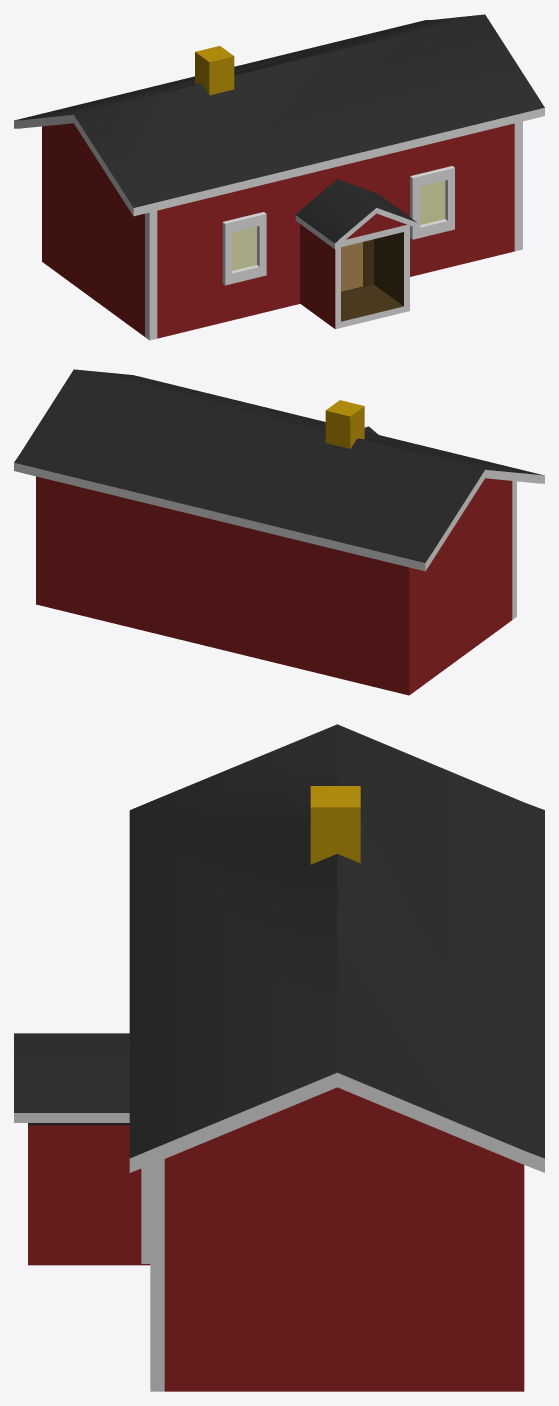
Rendered from MainHouse.fbx.
3 views of the same model, one above another, from view 1: azimuth 30°, elevation 25°; view 2: azimuth 150°, elevation 25°; view 3: azimuth 270°, elevation 25° (orthographic). The views are drawn at different scales.
Parts seen in each view (by area): view 1: mainHouse; view 2: mainHouse; view 3: mainHouse.
Part boxes in pixels (x1=…): mainHouse: x1=14, y1=14, x2=544, y2=340; mainHouse: x1=14, y1=369, x2=544, y2=695; mainHouse: x1=14, y1=724, x2=544, y2=1391.
Size of the model in its own units: 331 by 168 by 213.
